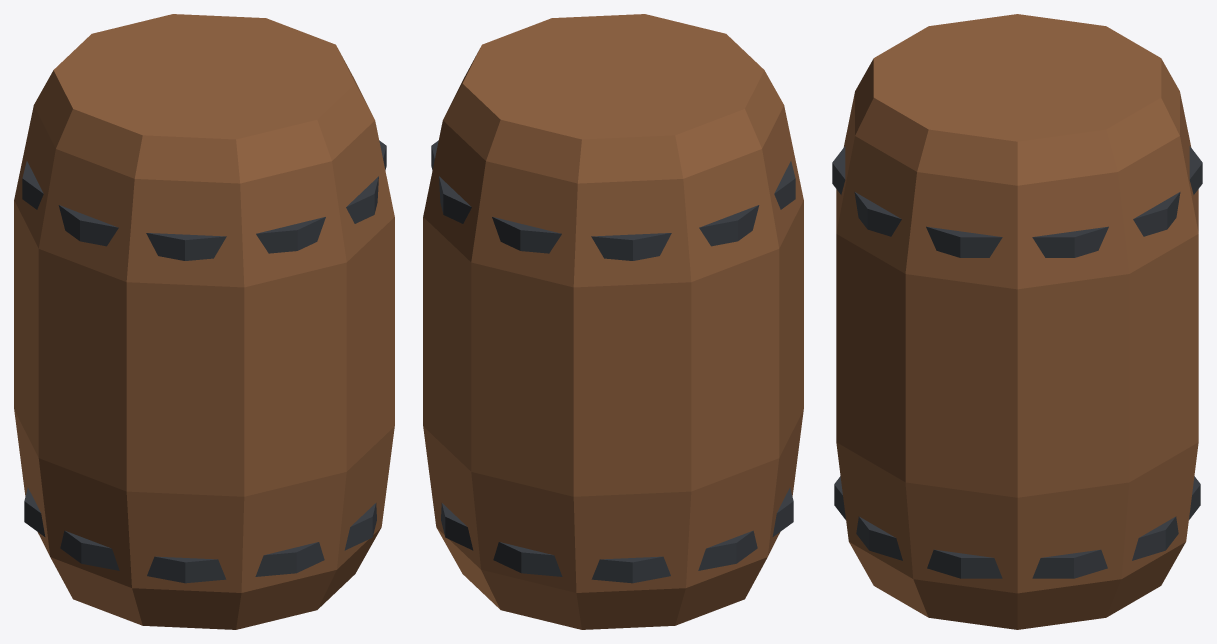
The model's file is barrel.glb.
3 renders of one model, left to right at view 1: azimuth 30°, elevation 25°; view 2: azimuth 150°, elevation 25°; view 3: azimuth 270°, elevation 25°, orthographic.
Visible parts, largest first — view 1: Alfa_barrel; view 2: Alfa_barrel; view 3: Alfa_barrel.
Boxes of the visible parts, left/top/right/bottom form: Alfa_barrel: left=14, top=14, right=394, bottom=629; Alfa_barrel: left=423, top=14, right=803, bottom=629; Alfa_barrel: left=832, top=14, right=1202, bottom=629.
Size of the model in its own units: 0.58 by 0.82 by 0.564.
